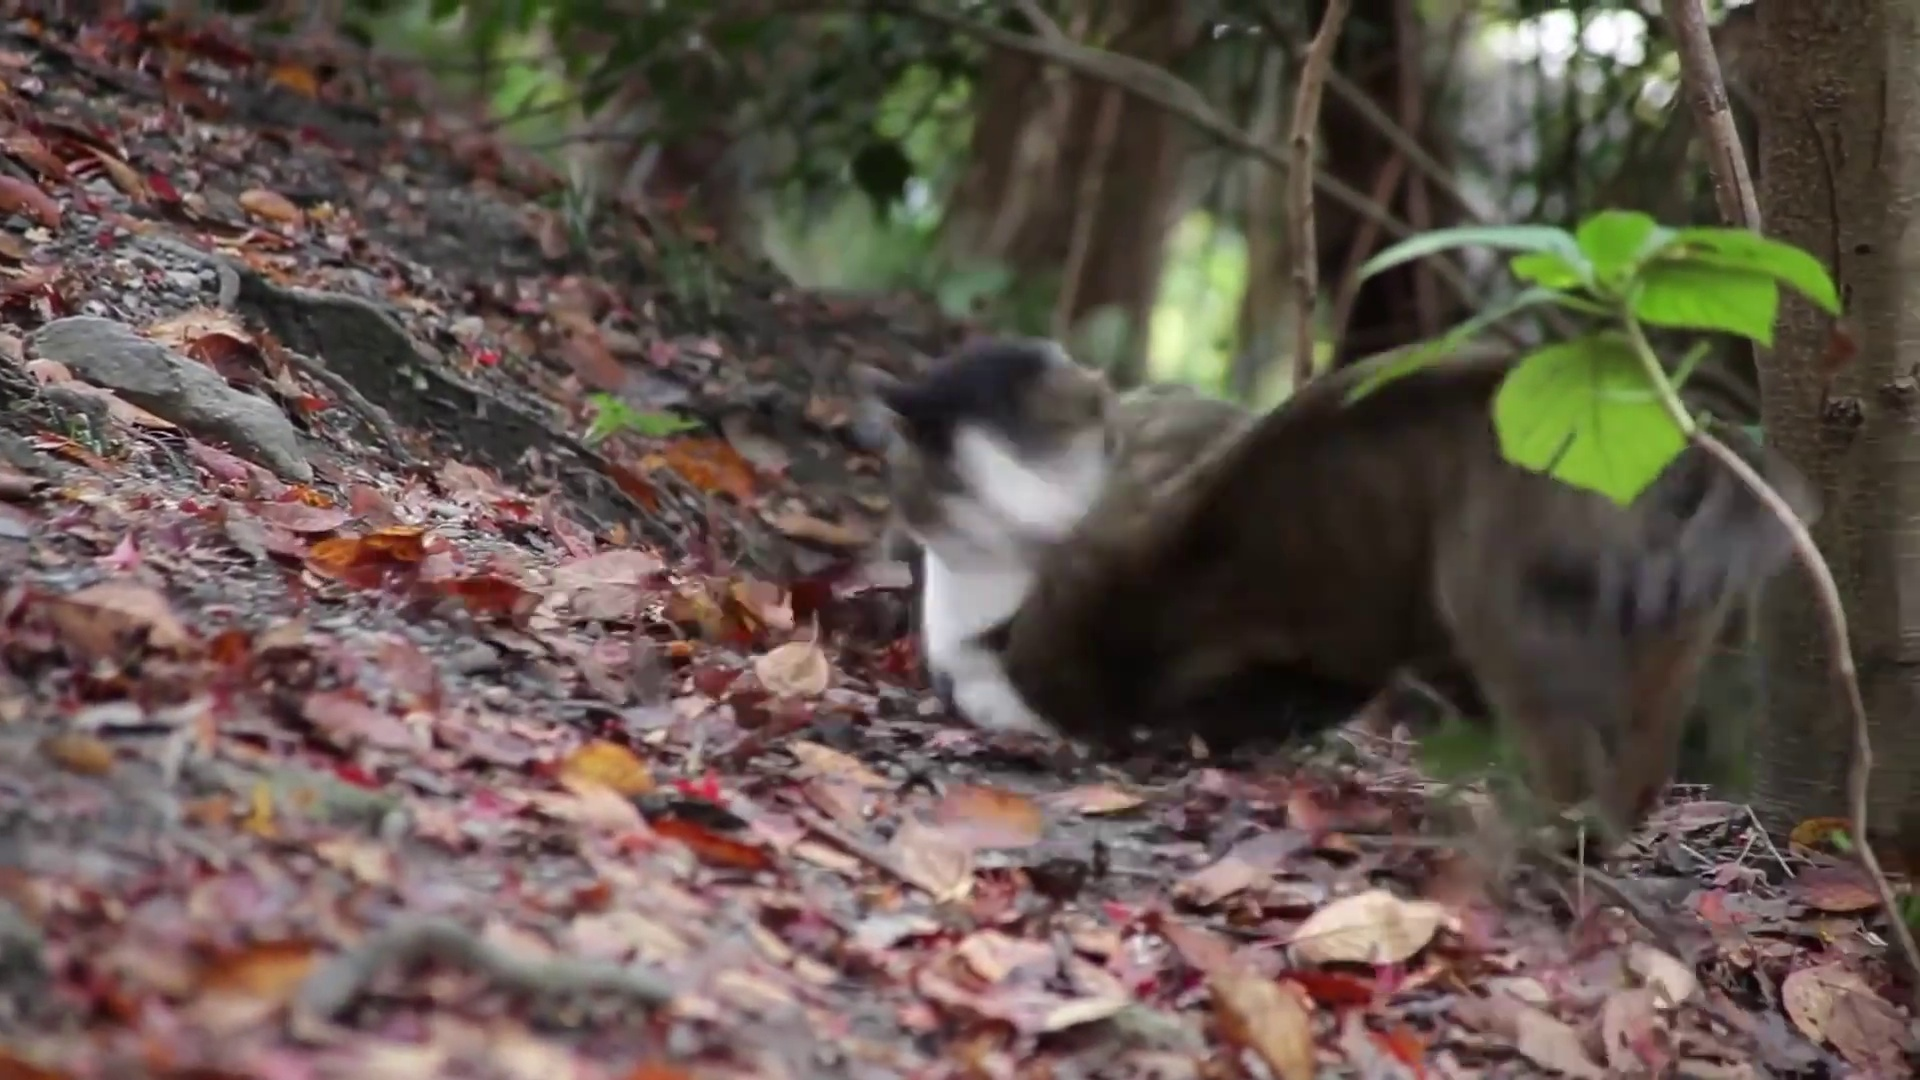black-white: (870, 334, 1265, 737)
pure black: (971, 339, 1527, 737)
